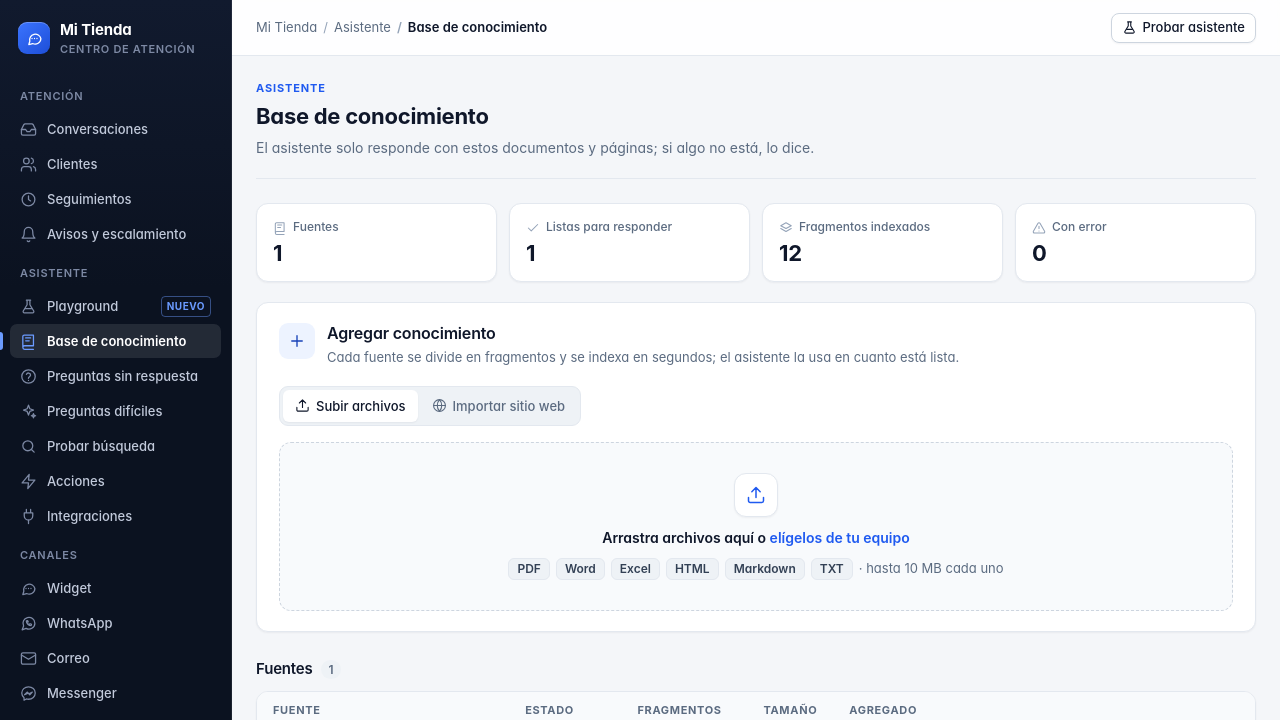
App › names the tab after the page and takes the focus to the content of each page the operator opens
Click the link "Widget".
click(56, 588)  # box [20,580,92,597]
(page scrolled)
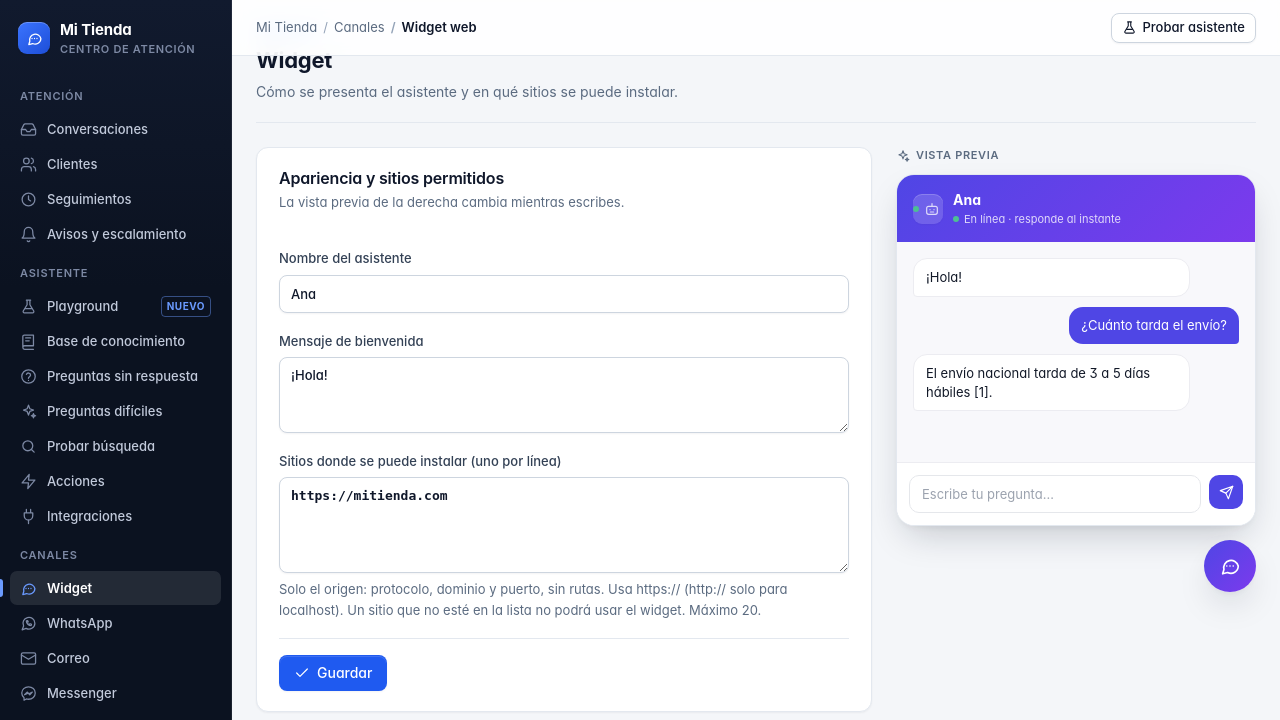
Now the field labelled "Nombre del asistente" is shown, box [279,274,849,313]
